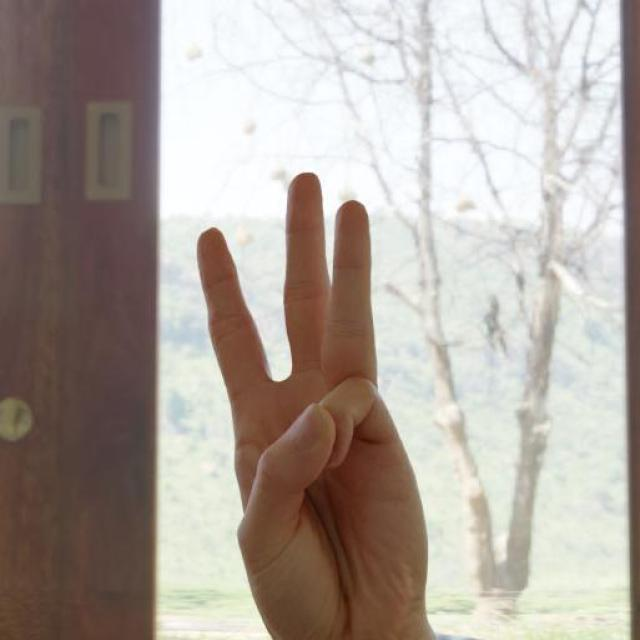W: (186, 169, 444, 640)
